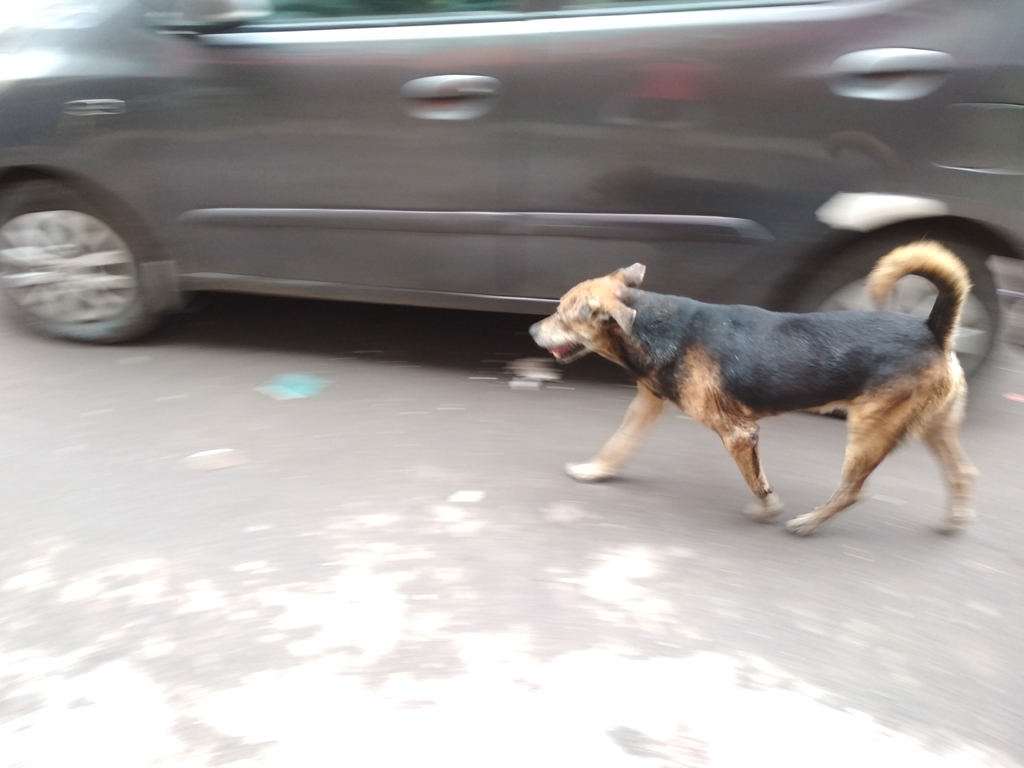dog: (529, 240, 970, 536)
